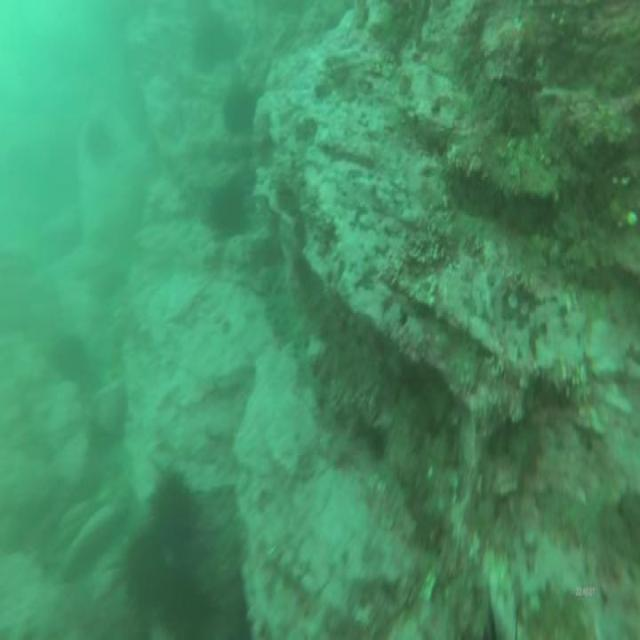echinus: (146, 464, 199, 558), (122, 531, 167, 610), (160, 560, 204, 636), (193, 6, 236, 79), (208, 175, 250, 245), (222, 82, 256, 142), (53, 333, 87, 389), (84, 115, 116, 169)
